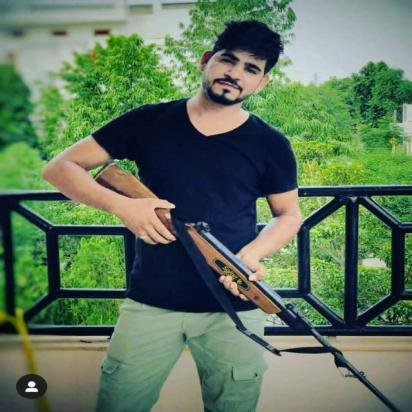Gun: (92, 158, 400, 412)
